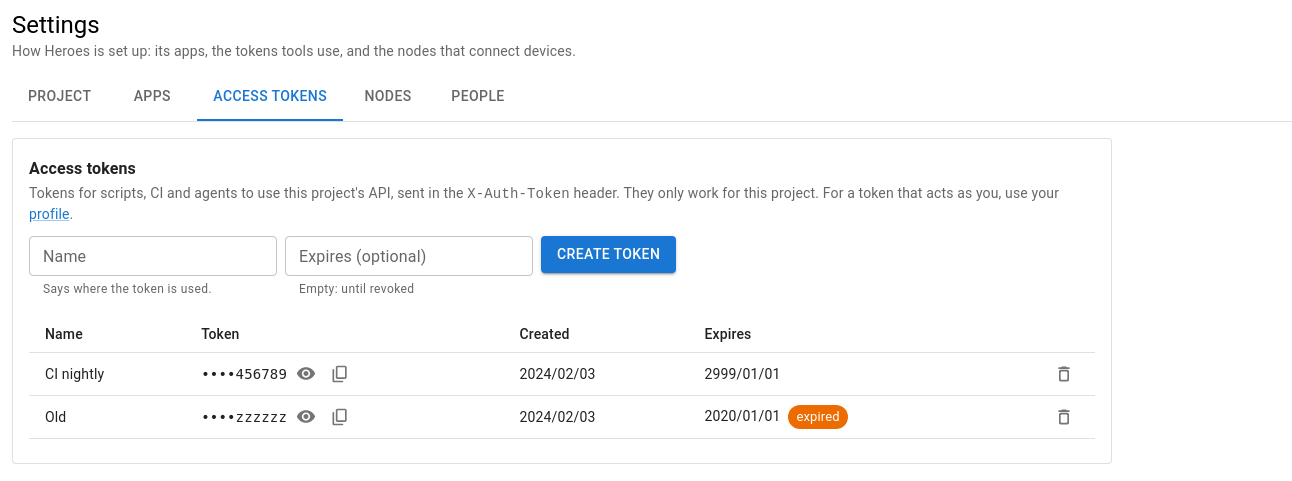
Test: Settings > Access tokens > create: asks for a name first
Expected: the table named "Access tokens" is shown, left=29, top=316, right=1095, bottom=439
Click the button "Create token" at (609, 254), box left=541, top=236, right=676, bottom=273
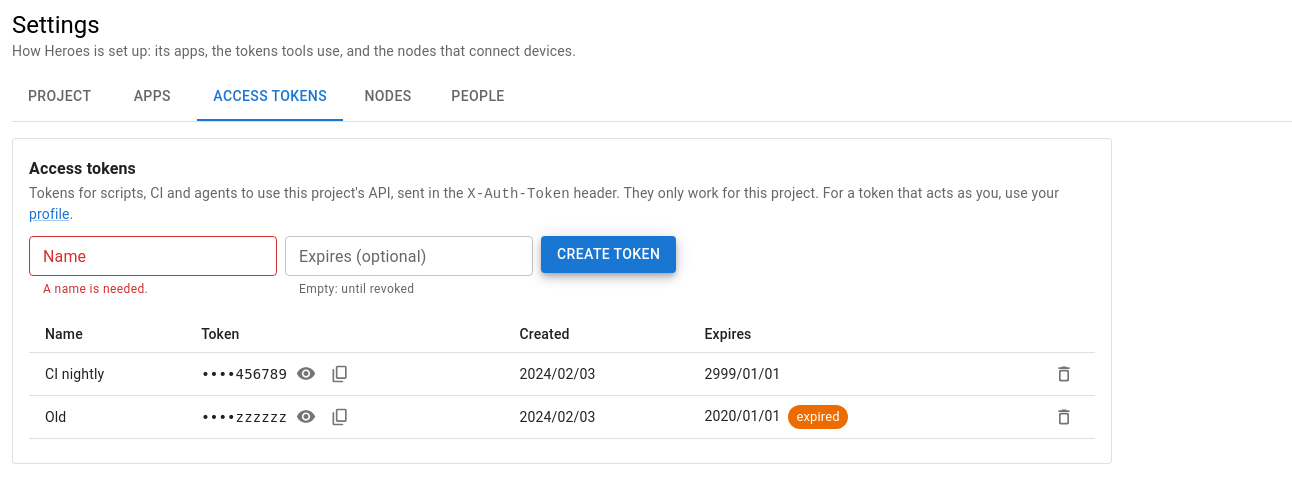
Expected: the text "A name is needed." is shown, left=43, top=282, right=148, bottom=296
